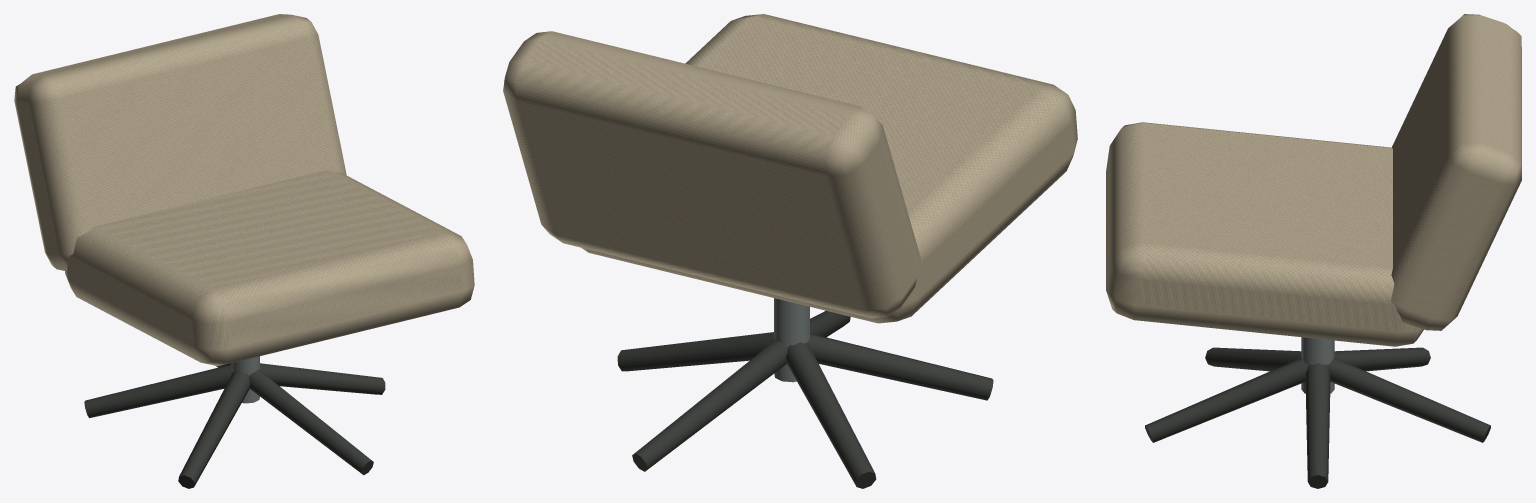
Rendered from dyvlinge-mobile.glb.
3 renders of one model, left to right at view 1: azimuth 30°, elevation 25°; view 2: azimuth 150°, elevation 25°; view 3: azimuth 270°, elevation 25°, orthographic. The views are drawn at different scales.
Parts seen in each view (by area): view 1: DYVLINGE Swivel armchair; view 2: DYVLINGE Swivel armchair; view 3: DYVLINGE Swivel armchair.
Part boxes in pixels (x1=…): DYVLINGE Swivel armchair: x1=14, y1=14, x2=474, y2=488; DYVLINGE Swivel armchair: x1=503, y1=14, x2=1077, y2=488; DYVLINGE Swivel armchair: x1=1106, y1=14, x2=1521, y2=488.
Size of the model in its own units: 0.63 by 0.68 by 0.75.
Materials: 3 (2 with a texture image).
